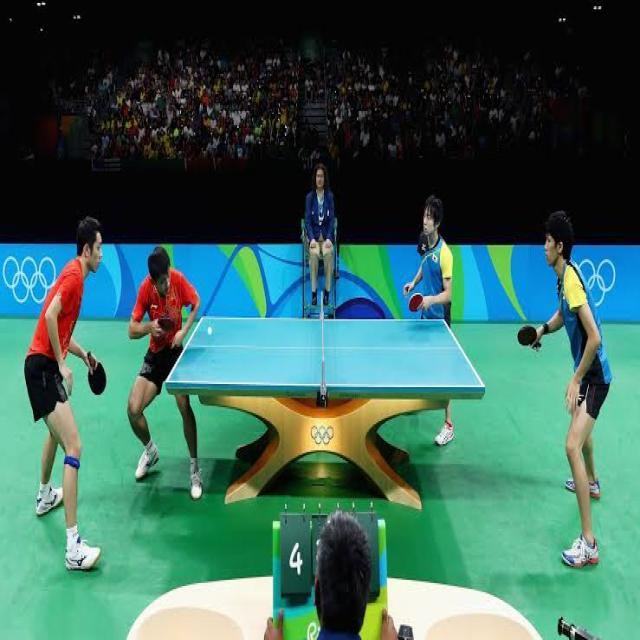TT Net: (319, 289, 326, 404)
TT Racket: (84, 357, 111, 407), (512, 318, 540, 351), (404, 287, 426, 315), (156, 315, 177, 334)
TT Table: (168, 314, 484, 387)
